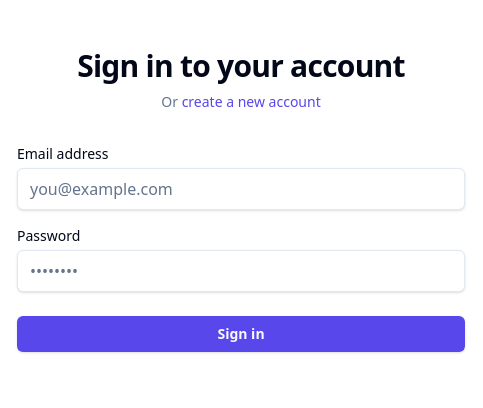
Test: LoginPage › error handling › should clear error on new submission
The image size is (483, 408).
Type "test@example.com" into the field labelled "Email address".
click(241, 189); type("test@example.com")  # box [17,168,465,210]
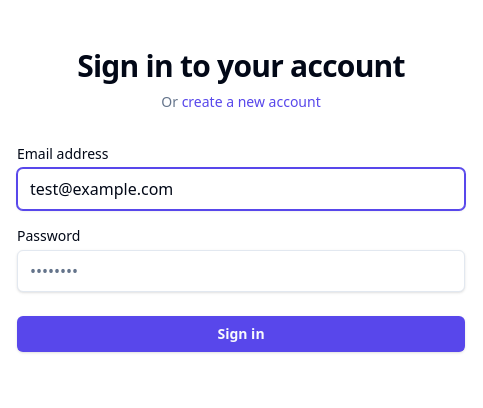
Type "wrongpassword" into the password field labelled "Password".
click(241, 271); type("wrongpassword")  # box [17,250,465,292]
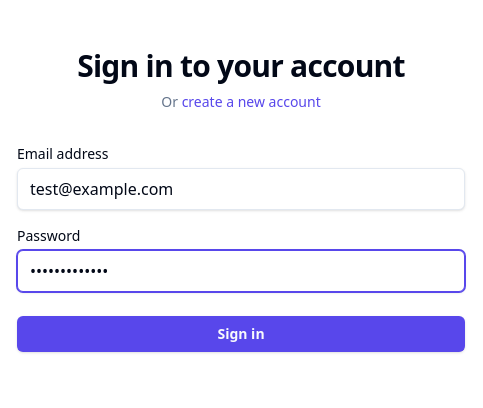
Click the button "Sign in".
click(241, 334)  # box [17,316,465,352]
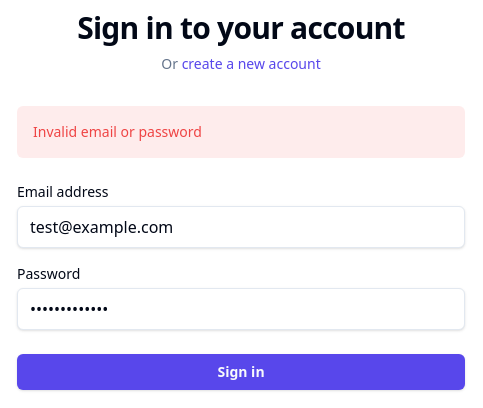
Expected: the text "Invalid email or password" is shown, [17,106,465,158]
Type "correctpassword" into the password field labelled "Password".
click(241, 309); type("correctpassword")  # box [17,288,465,330]
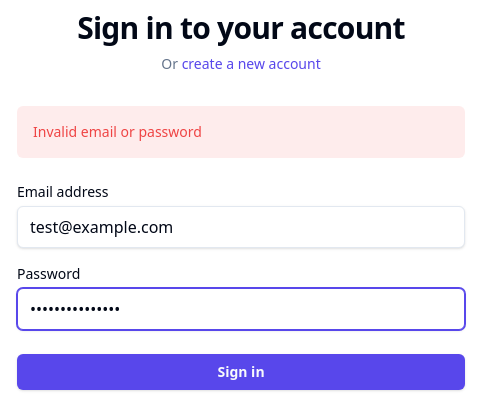
Click the button "Sign in".
click(241, 372)  # box [17,354,465,390]
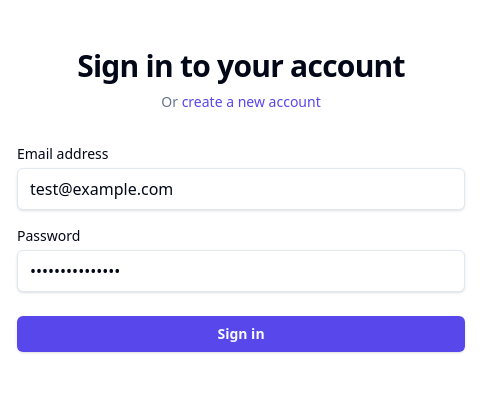
Expected: the text "Invalid email or password" is gone
